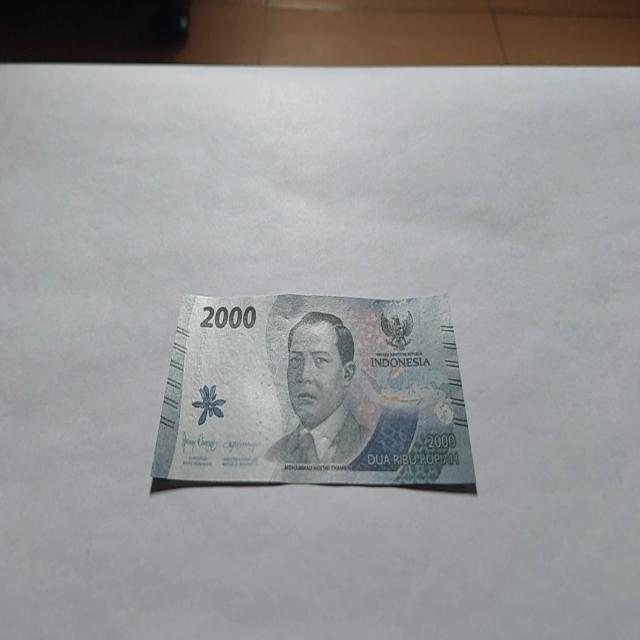dua ribu rupiah: (150, 288, 477, 494), (264, 307, 374, 468)
